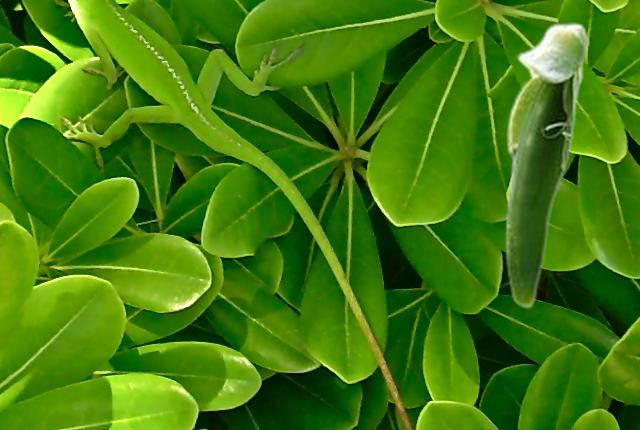pea: (504, 22, 589, 308)
